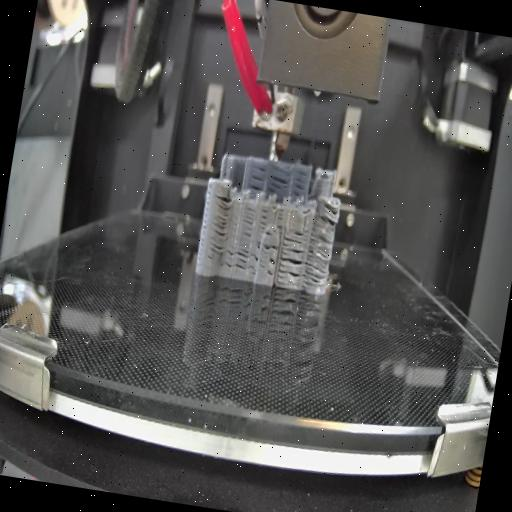cracks: (302, 234, 332, 288), (208, 194, 232, 254), (276, 248, 304, 284), (315, 200, 341, 226), (264, 172, 288, 198), (246, 162, 266, 192), (246, 238, 260, 278), (240, 206, 256, 239), (282, 226, 304, 248), (232, 246, 250, 272), (290, 169, 306, 197), (256, 208, 269, 232), (274, 206, 286, 230), (222, 247, 235, 269), (264, 257, 276, 276), (261, 242, 277, 252), (264, 231, 273, 236)
